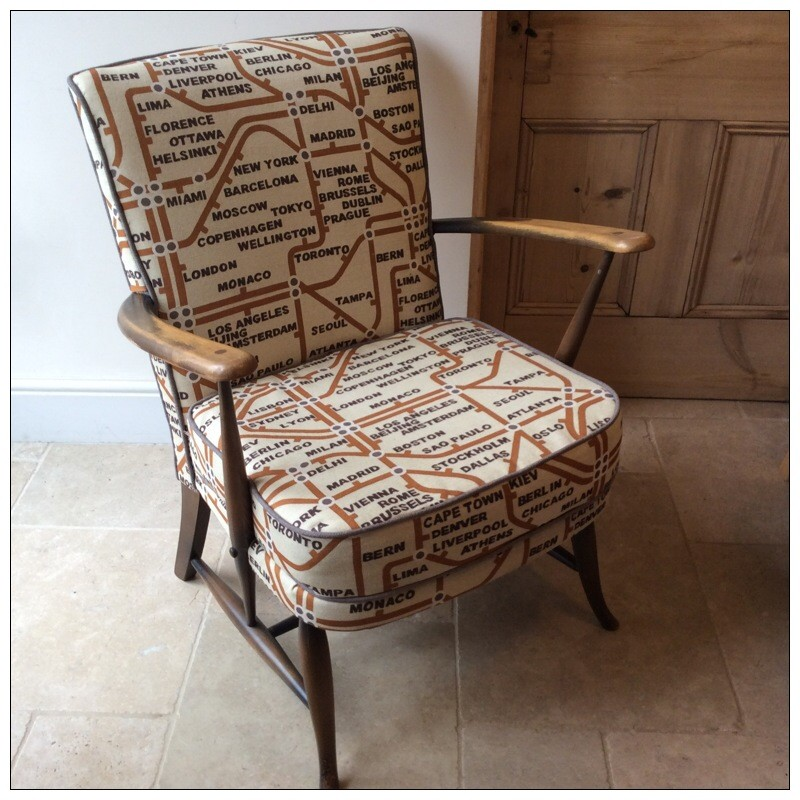chairs: (61, 23, 656, 800)
